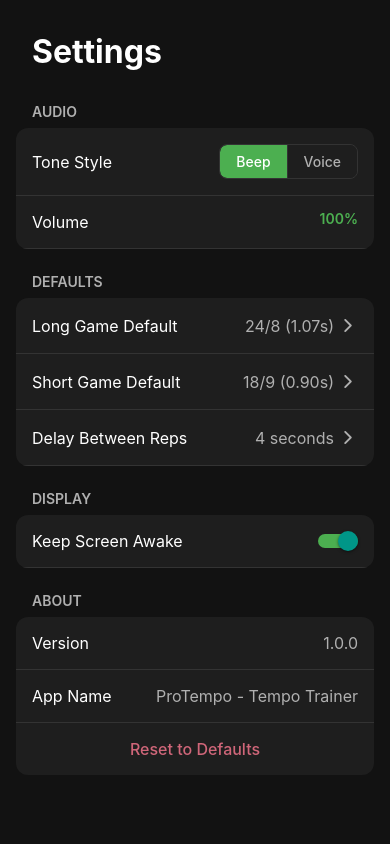
it: SettingsScreen › defaults section › opens long game preset picker when tapped
Note: First pressable is Long Game Default
Step 1. Click the button with test id "settings-row-pressable" showing "Long Game Default 24/8 (1.07s)" → {"x": 105, "y": 326}, box [16,298,374,354]
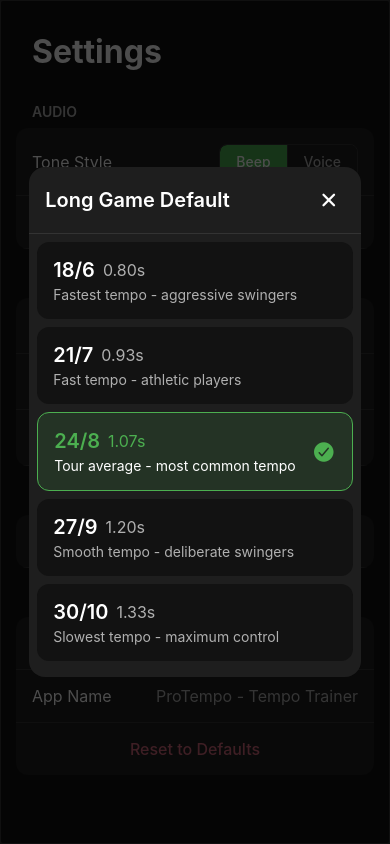
Check: the element with test id "preset-picker" is shown, box [29,167,361,677]
